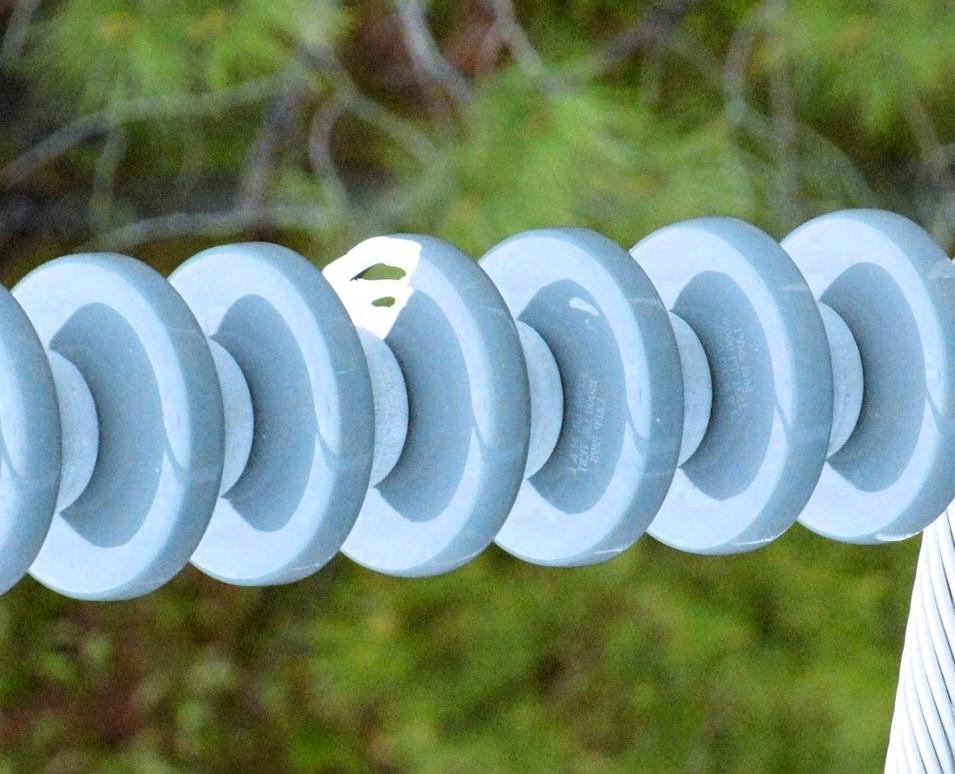insulator breakage: (310, 216, 535, 591)
